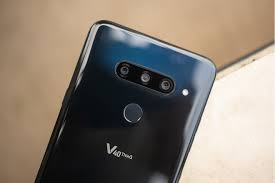lg: (28, 18, 218, 183)
